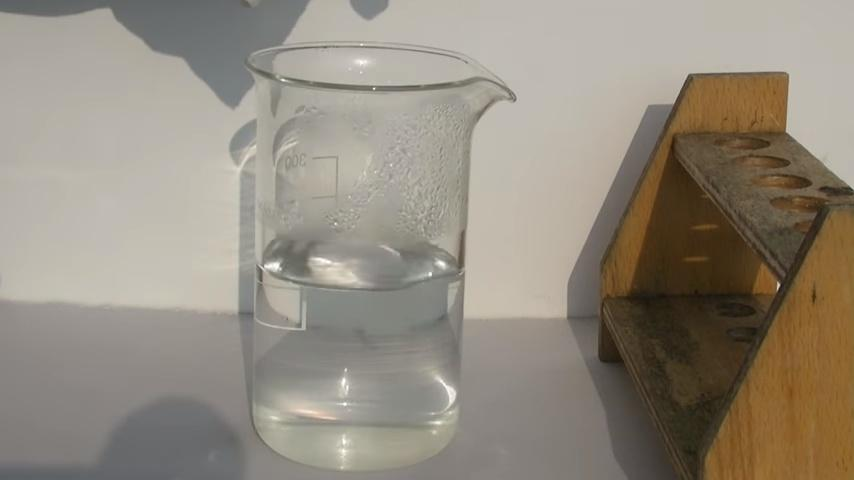Beaker: (243, 42, 512, 467)
